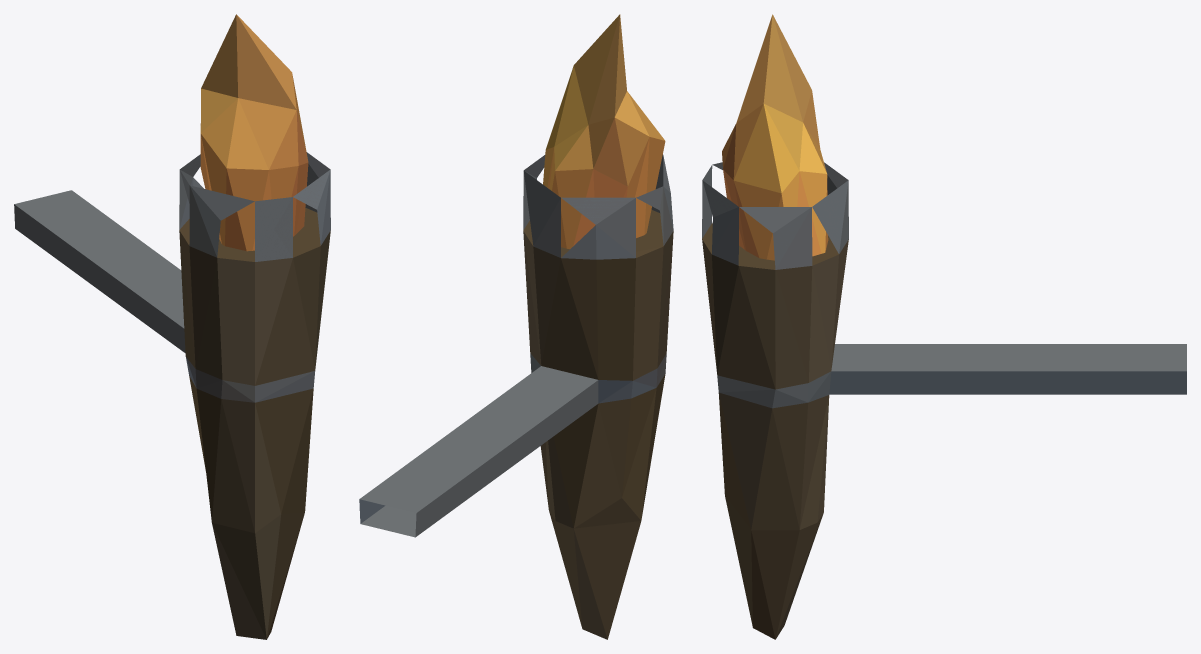
The model's file is Prop-CaveTorchA.fbx.
3 views of the same model, side by side, from view 1: azimuth 30°, elevation 25°; view 2: azimuth 150°, elevation 25°; view 3: azimuth 270°, elevation 25° (orthographic). The views are drawn at different scales.
Visible parts, largest first — view 1: Prop-CaveTorchA; view 2: Prop-CaveTorchA; view 3: Prop-CaveTorchA.
Boxes of the visible parts, x1,y1,x2,y2 form: Prop-CaveTorchA: [14, 14, 330, 639]; Prop-CaveTorchA: [359, 14, 673, 639]; Prop-CaveTorchA: [702, 14, 1186, 639].
Bounding box in the file's own units: 21.36 × 97.66 × 70.5.
